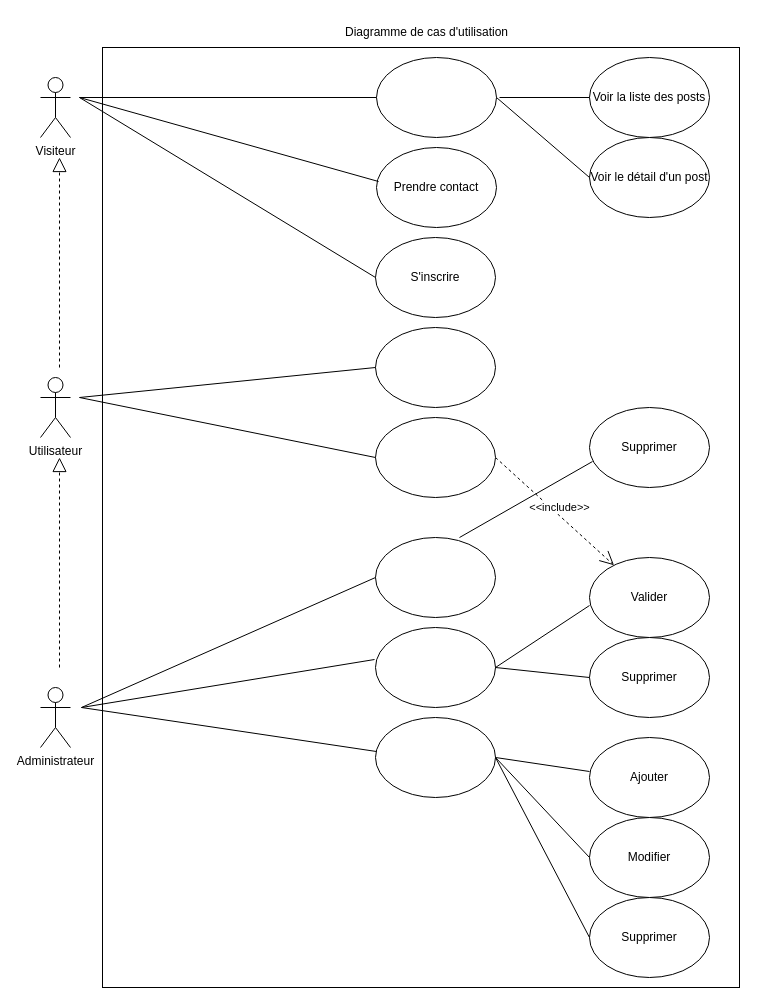
Image size: 757x1005. Some labels were removed from this diagram. Each missing label, with the centre of its shape:
"Commenter" belongs at [435,457].
"Consulter le blog" belongs at [436,97].
"Gérer les commentaires" belongs at [435,667].
"Gérer les posts" belongs at [435,757].
"Gérer les utilisateurs" belongs at [435,577].
"Se connecter" belongs at [435,367].
